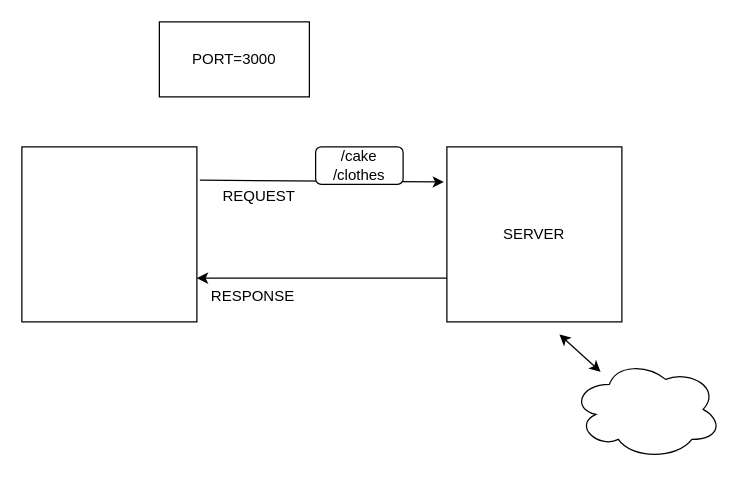
The diagram is 744 pixels wide and 481 high, and some of its shapes have lost their labels. The shapes that lost their labels are listed below. From the top down, each one's centre as x and y in pixels, then its label:
[109,234]: CLIENT
[646,408]: Mongodb db = test
